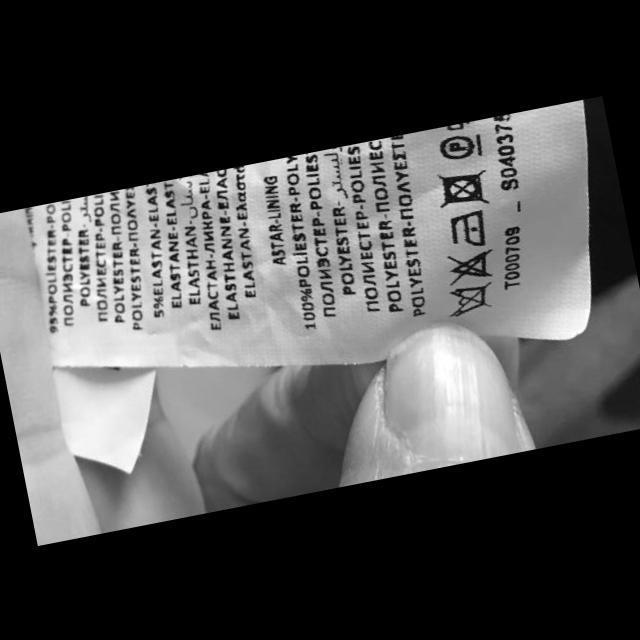DN_bleach: (441, 243, 498, 290)
DN_tumble_dry: (431, 160, 494, 213)
DN_wash: (442, 277, 499, 321)
iron_low: (444, 204, 492, 252)
normal_dry_clean_solvents: (435, 127, 488, 165)
